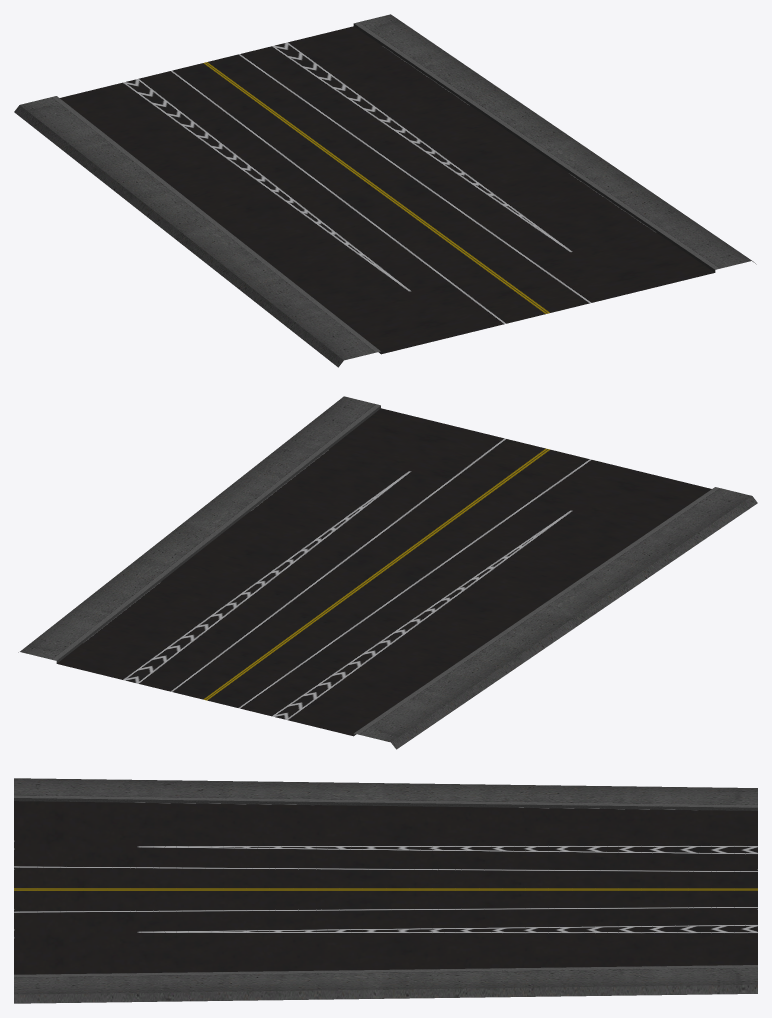
Rendered from RJs_Road Pass 2+4+2 Basic Segment_A.fbx.
3 views of the same model, one above another, from view 1: azimuth 30°, elevation 25°; view 2: azimuth 150°, elevation 25°; view 3: azimuth 270°, elevation 25° (orthographic). The views are drawn at different scales.
Parts seen in each view (by area): view 1: plane; view 2: plane; view 3: plane.
Part boxes in pixels (x1,y1,x2,y2): plane: (14, 14, 756, 367); plane: (18, 396, 757, 749); plane: (14, 778, 757, 1003).
Size of the model in its own units: 4520 by 60.1 by 6400.
